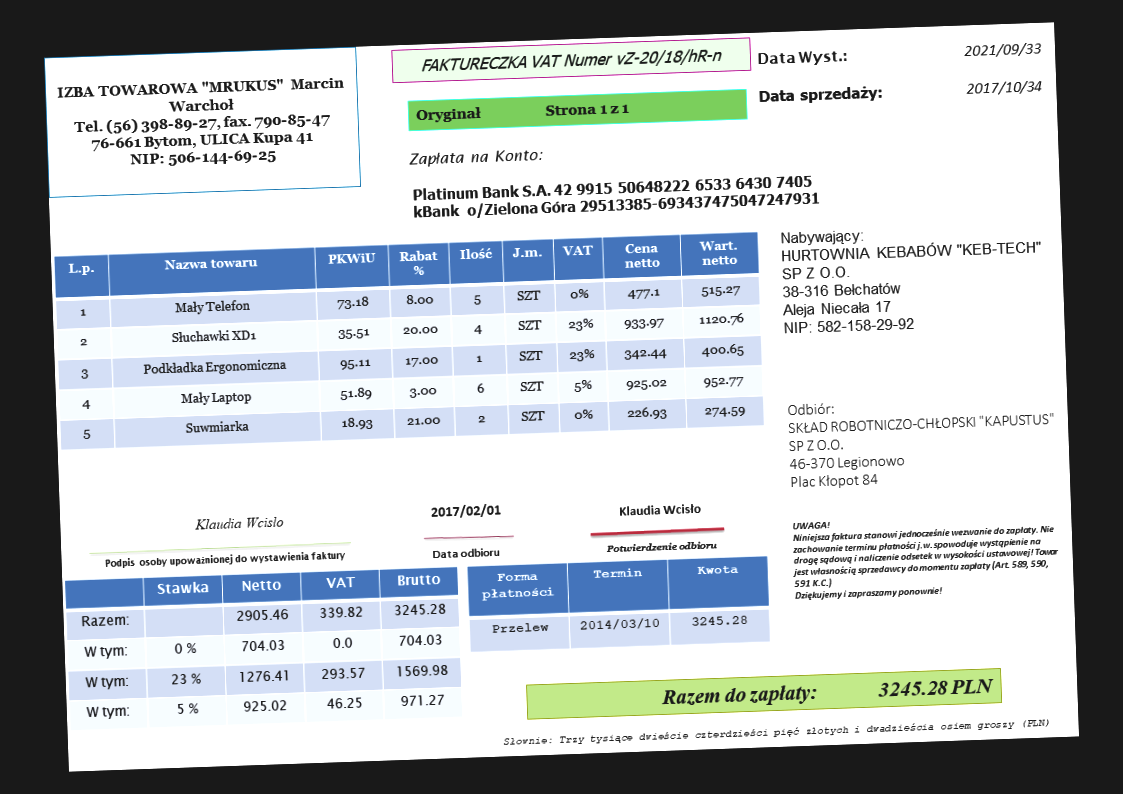Table: (53, 230, 766, 452), (63, 565, 462, 733), (465, 554, 772, 654)
TextBox: (779, 220, 1048, 337), (54, 72, 348, 174), (785, 392, 1059, 493), (789, 509, 1063, 604), (409, 172, 821, 221), (500, 716, 1053, 749), (659, 675, 995, 711), (418, 45, 726, 76), (413, 97, 631, 126), (103, 548, 349, 571), (406, 144, 546, 170), (755, 81, 886, 108), (756, 46, 850, 70), (604, 537, 720, 556), (191, 511, 286, 533), (961, 38, 1043, 62), (963, 76, 1044, 97), (615, 501, 702, 519), (427, 501, 504, 521), (429, 545, 500, 561)
